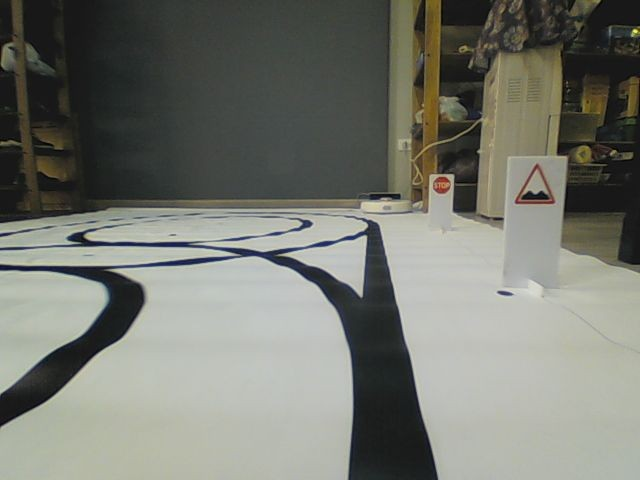Nerov: (513, 160, 556, 206)
Stop: (432, 176, 451, 194)
